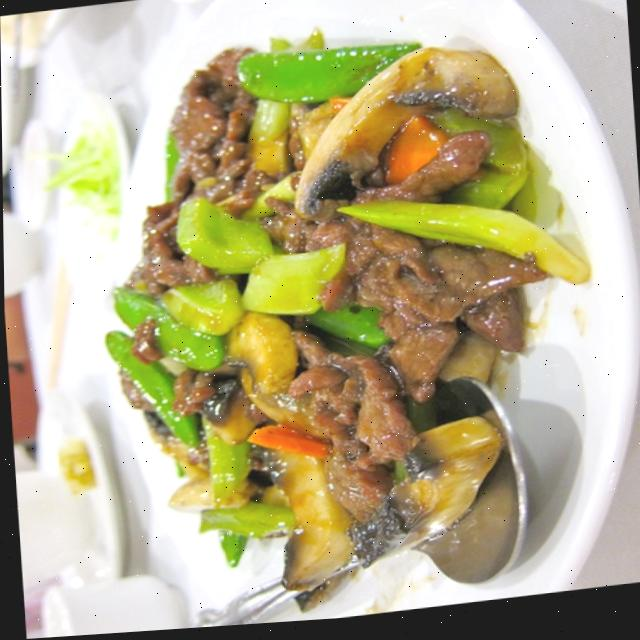牛肉菜式: (22, 0, 632, 639)
